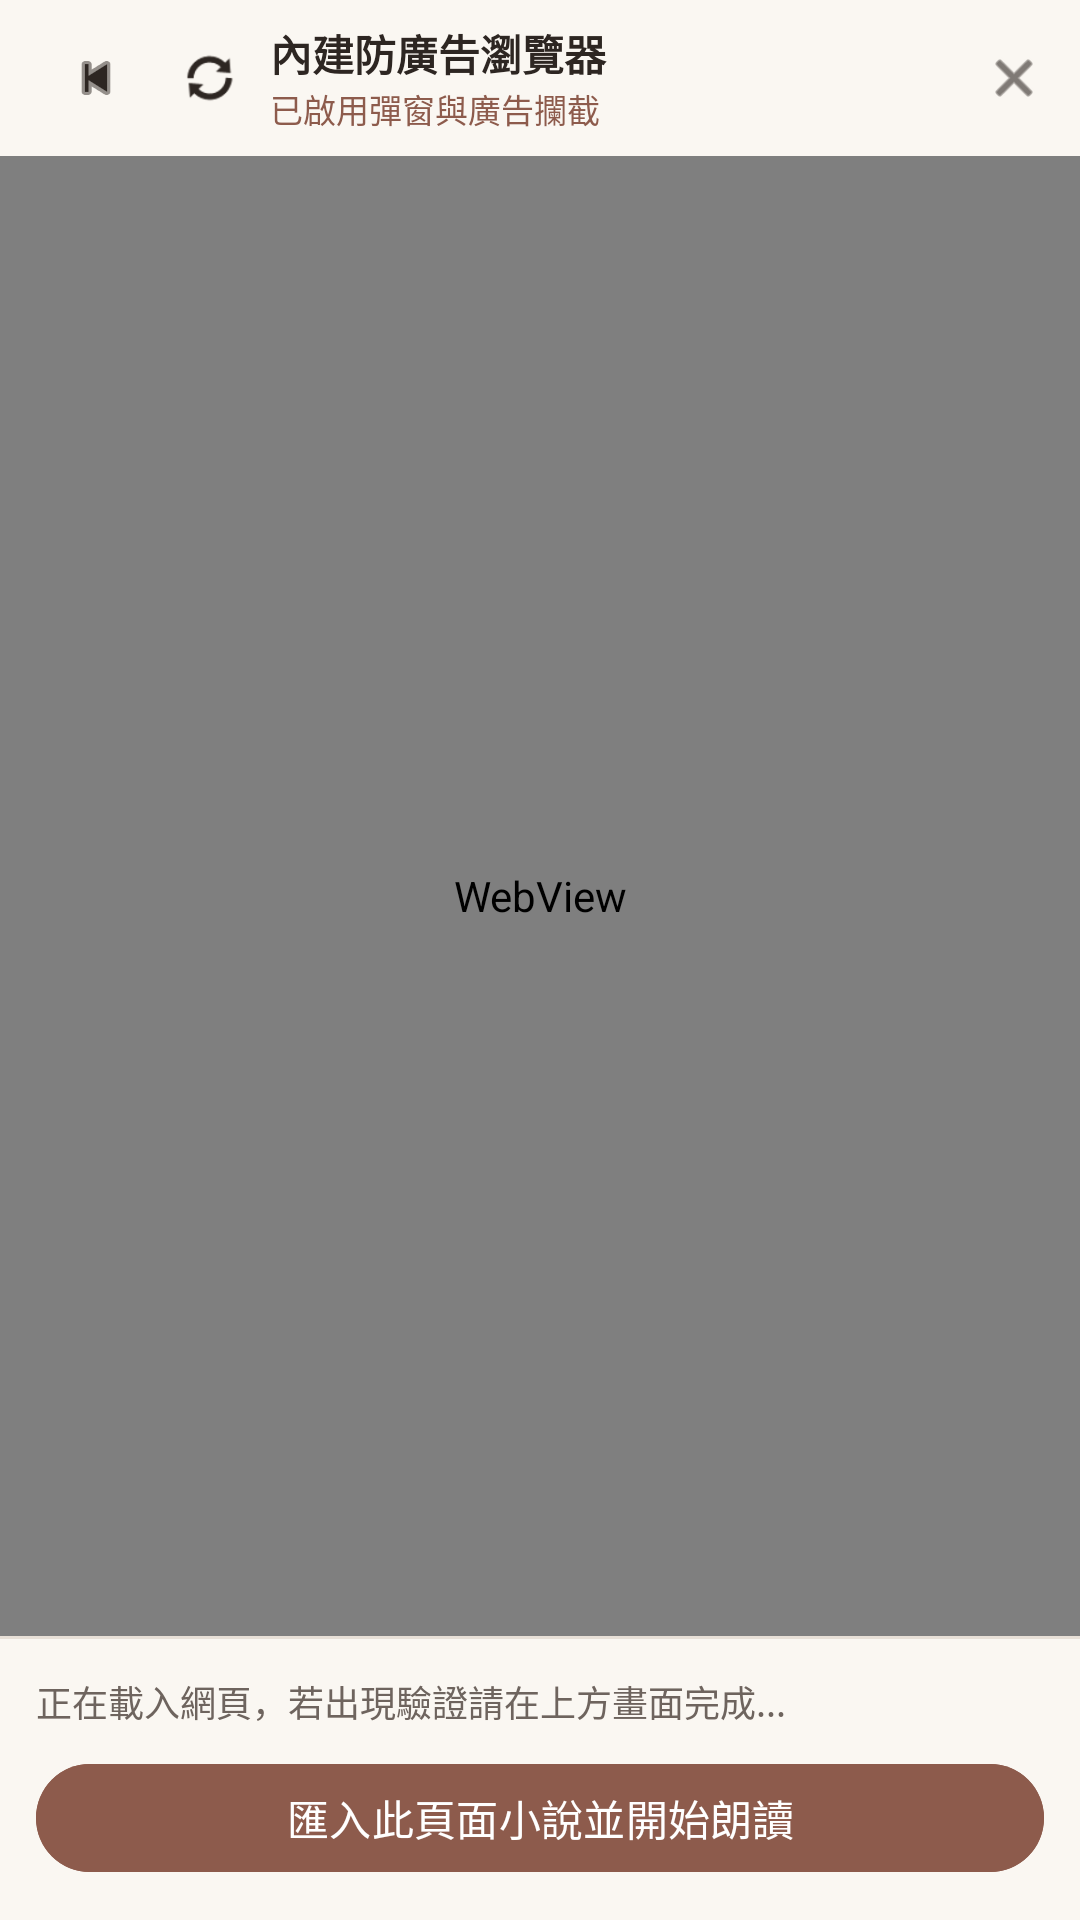

Icons on this 1080x1920 Android screen, each with the point to tap as [x,y]:
上一頁: [96,78]
重新整理: [210,78]
關閉: [1014,78]
